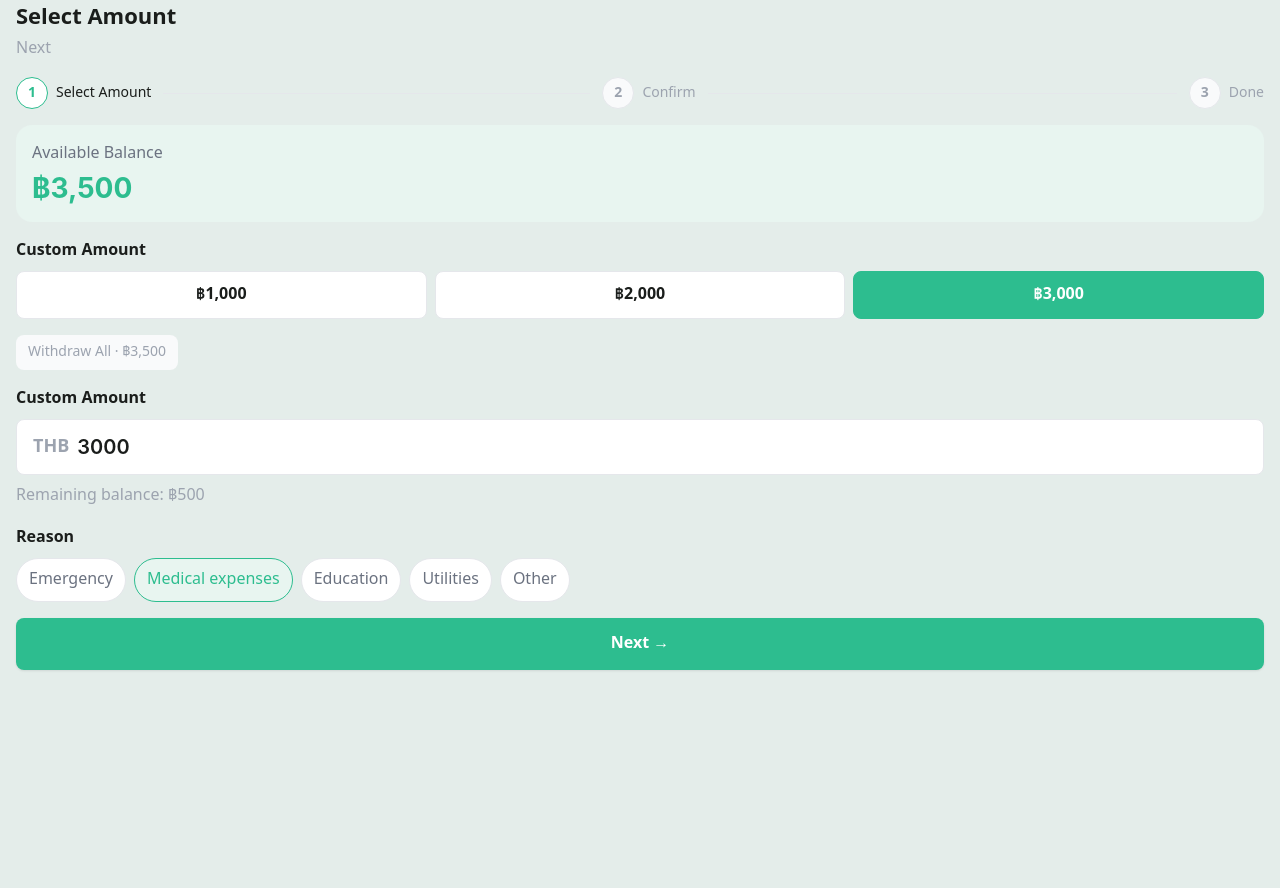
Test: EmployeeRequestPage — step 2 › back button returns to step 1
Click the button "Next →" at (640, 644), box [16,618,1264,670]
(page scrolled)
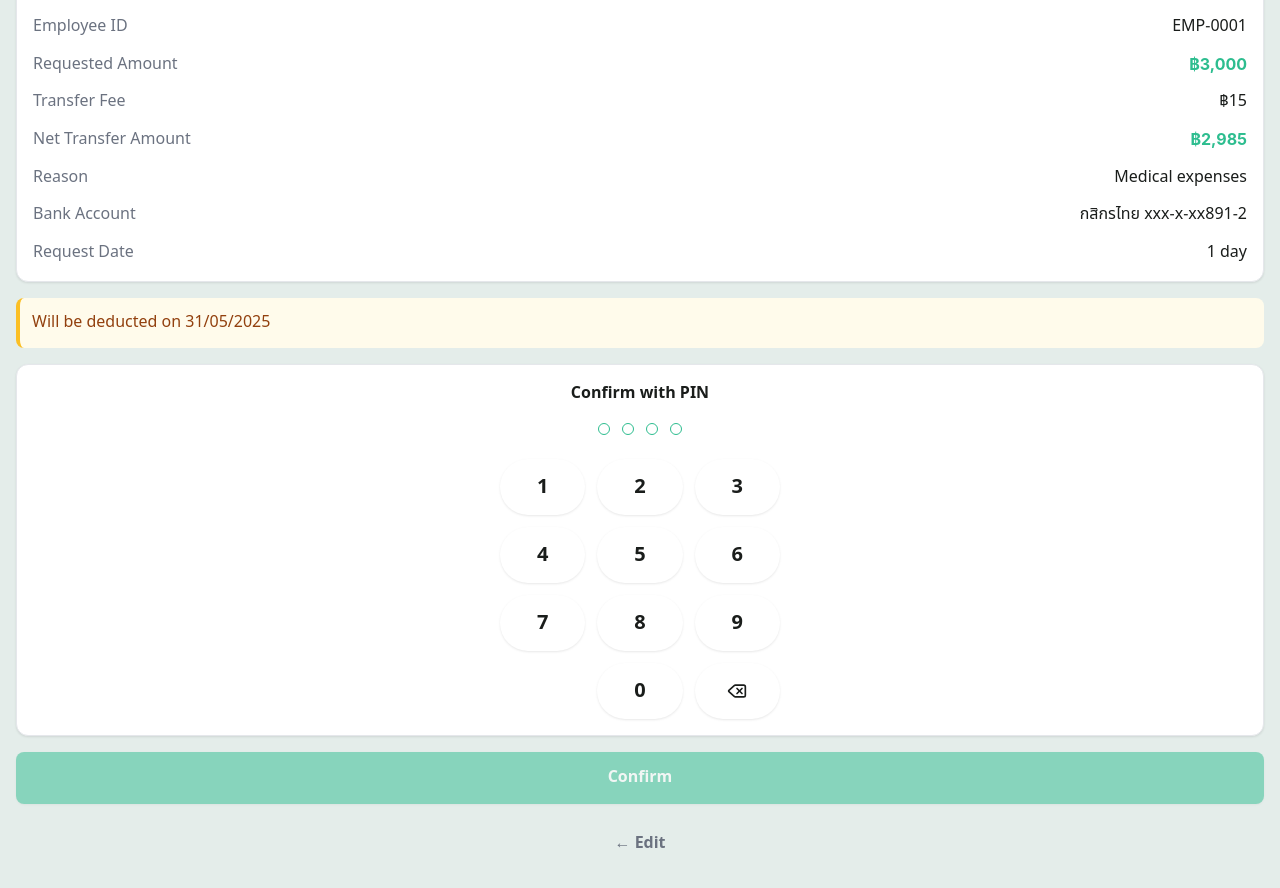
Click the button "← Edit" at (640, 844), box [16,820,1264,868]
(page scrolled)
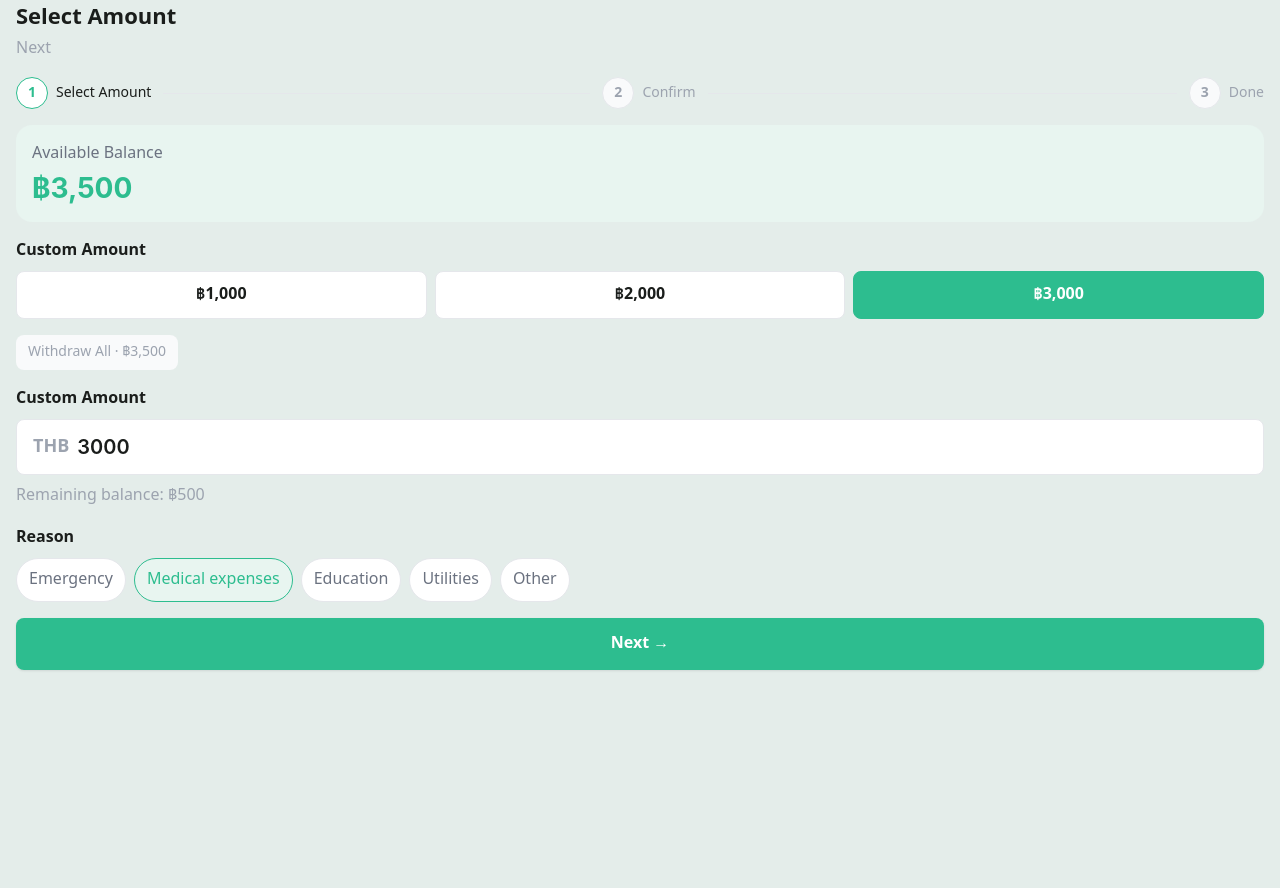
Result: the text "Available Balance" is shown at [32,141,163,165]
